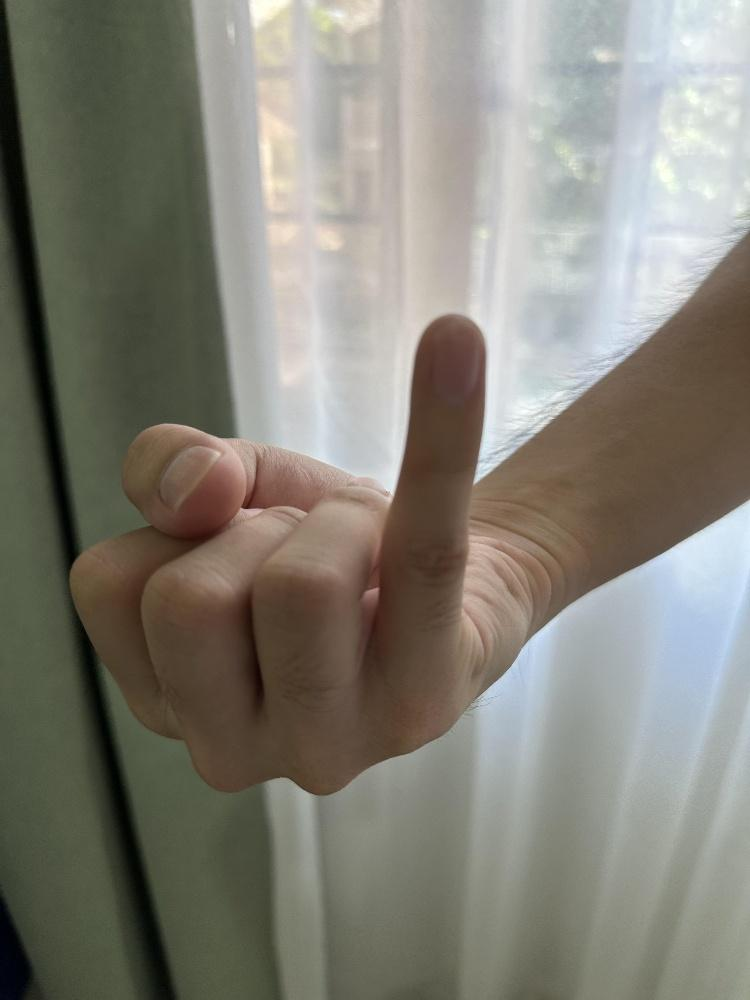j: (66, 308, 539, 799)
